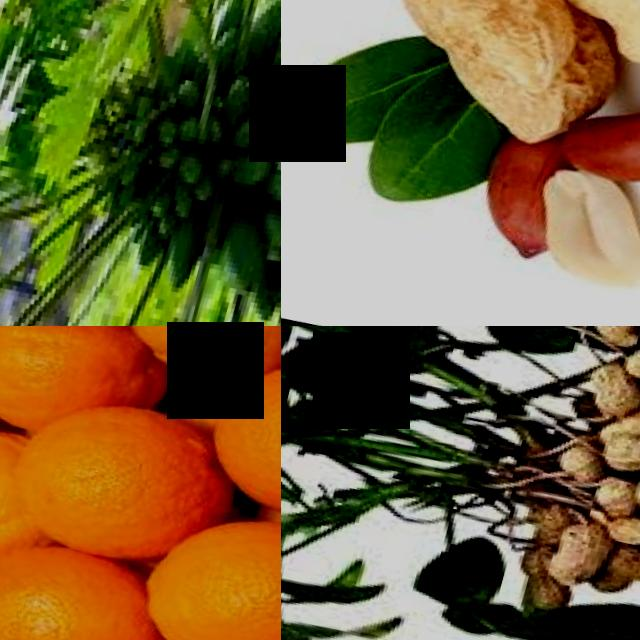orange: (3, 383, 233, 574), (133, 500, 281, 640), (0, 530, 162, 640), (197, 341, 281, 532), (101, 326, 280, 401), (0, 326, 93, 443), (0, 408, 34, 591)
peanuts: (406, 0, 635, 119), (574, 91, 640, 202), (546, 521, 618, 599), (579, 364, 640, 424), (606, 512, 640, 560), (619, 423, 640, 488)
